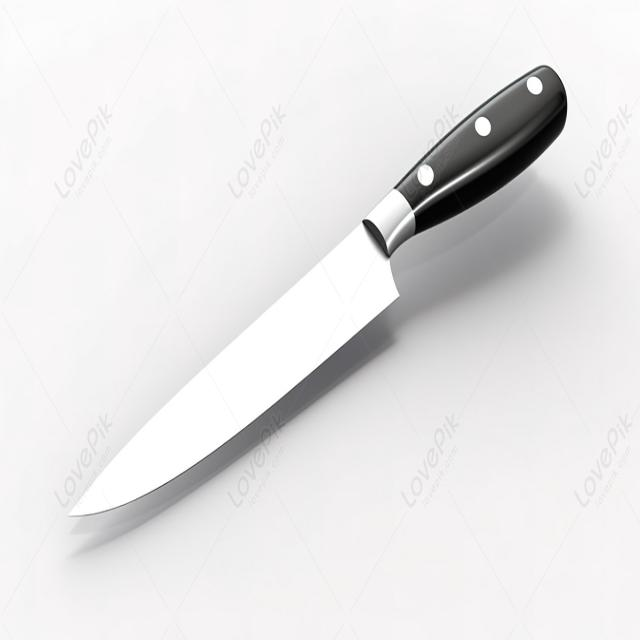Knife: (67, 62, 567, 535)
